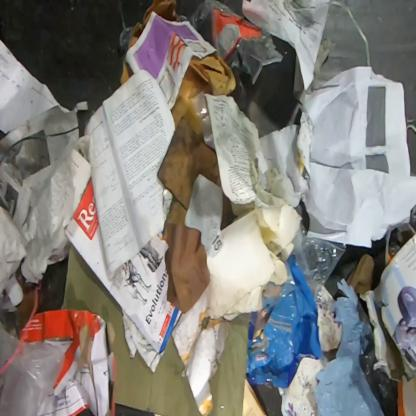cardboard: (61, 244, 251, 416), (157, 117, 236, 315), (19, 309, 116, 416), (168, 52, 238, 142), (126, 0, 180, 57), (119, 57, 134, 87)
rigid_plastic: (189, 1, 284, 113), (115, 0, 134, 57)
soft_plastic: (314, 278, 399, 415), (246, 252, 322, 388), (2, 327, 66, 416), (291, 221, 349, 300)
